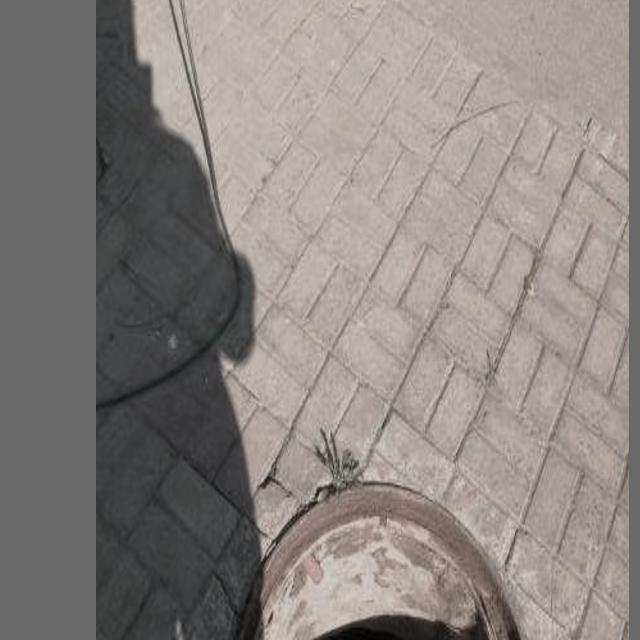lose: (225, 466, 553, 640)
